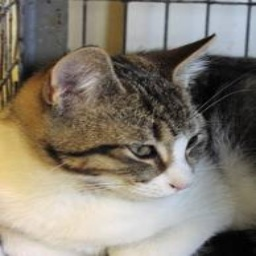cat: (8, 28, 256, 256)
